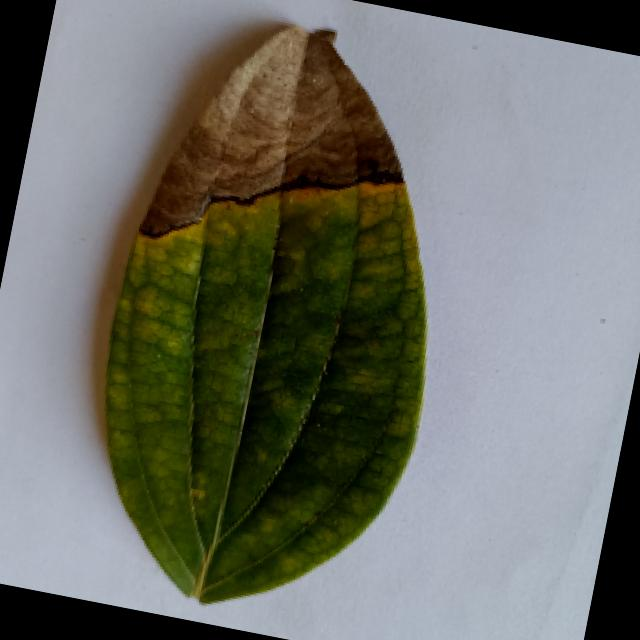footrot: (59, 1, 490, 634)
